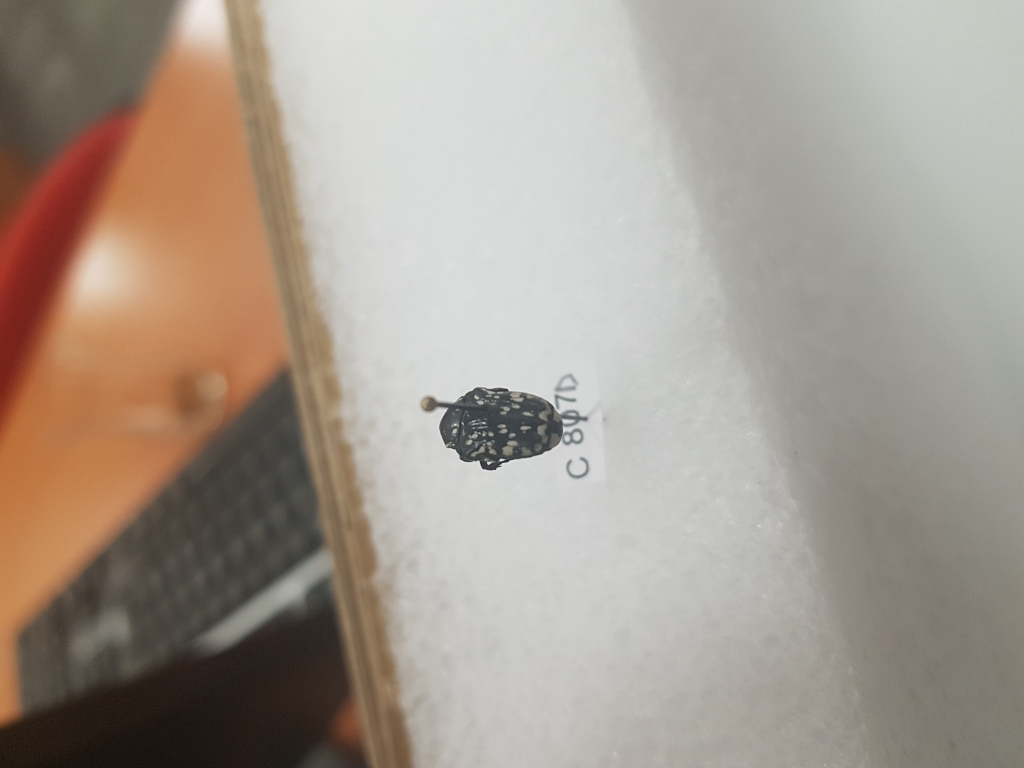Oxythyrea_albopicta: (432, 377, 565, 468)
